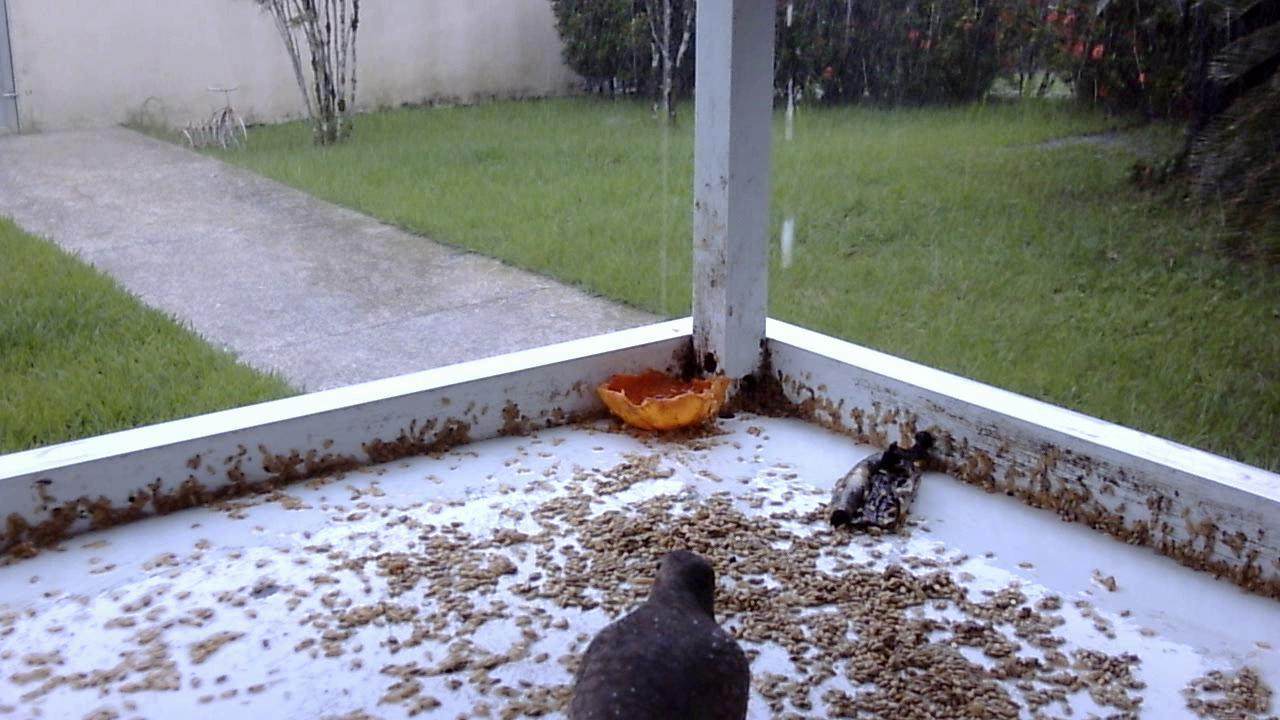rolinha: (559, 546, 753, 712)
